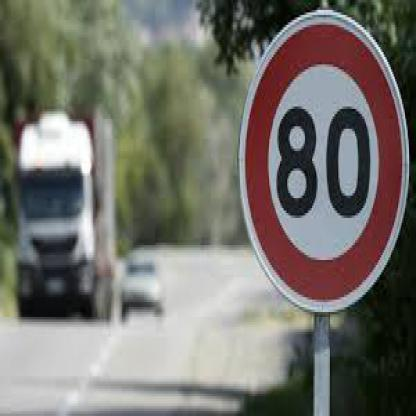Speed Limit 80: (242, 14, 405, 308)
